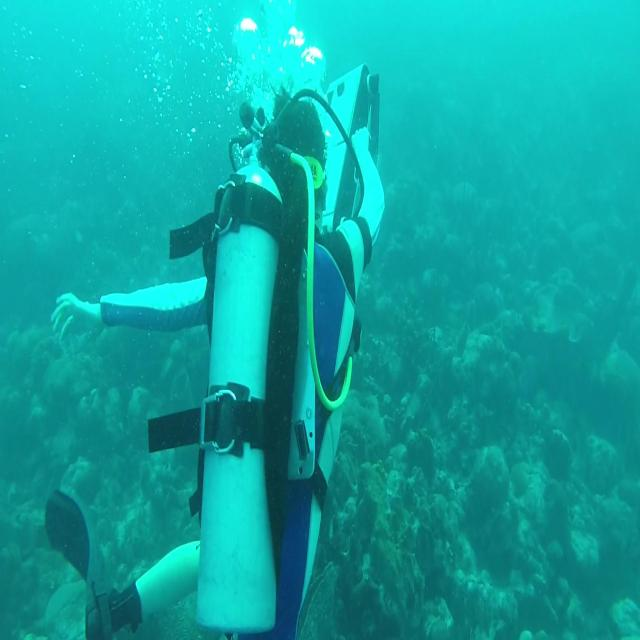human: (46, 62, 385, 638)
